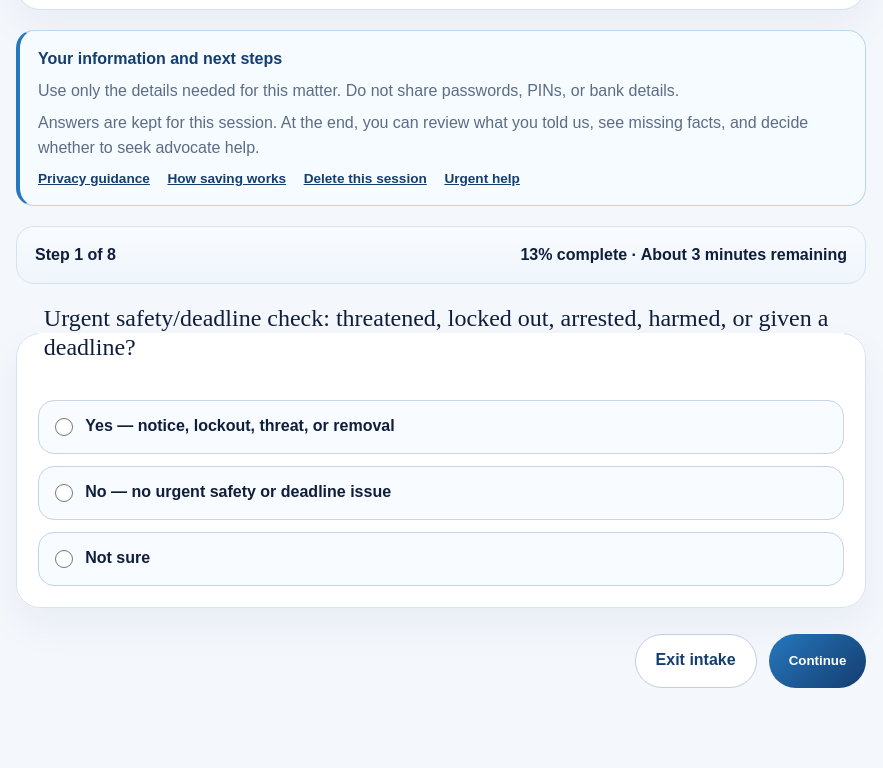
uses mutually exclusive land role labels and offers an exit before answering
The image size is (883, 768).
(page scrolled)
Click the radio button labelled "No — no urgent safety or deadline issue".
click(64, 493)  # box [55,484,73,502]
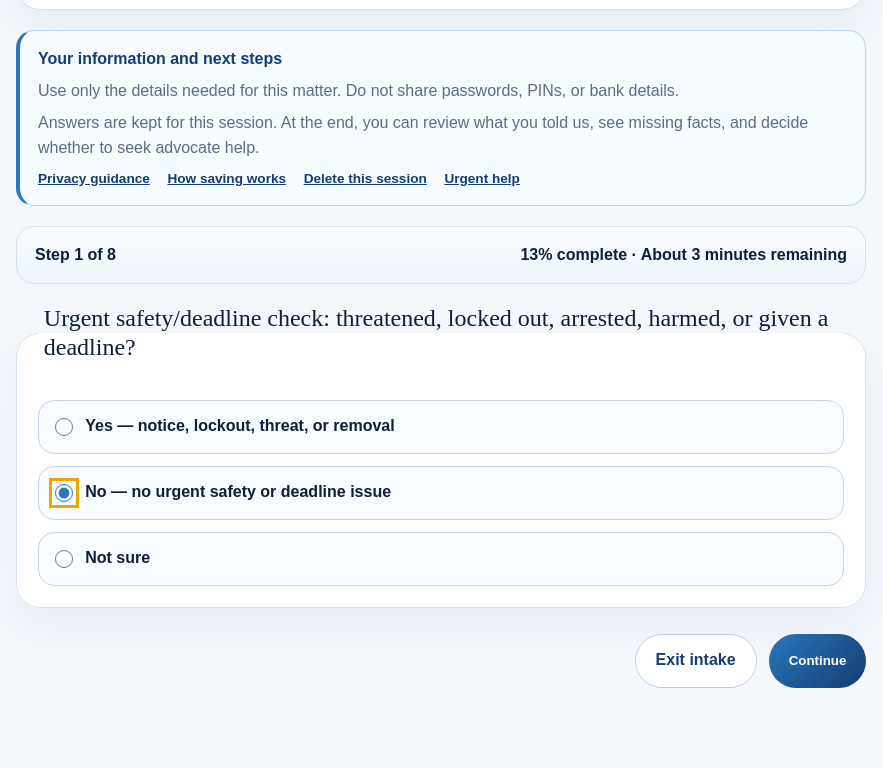
Click the button "Continue".
click(818, 661)  # box [769,634,866,688]
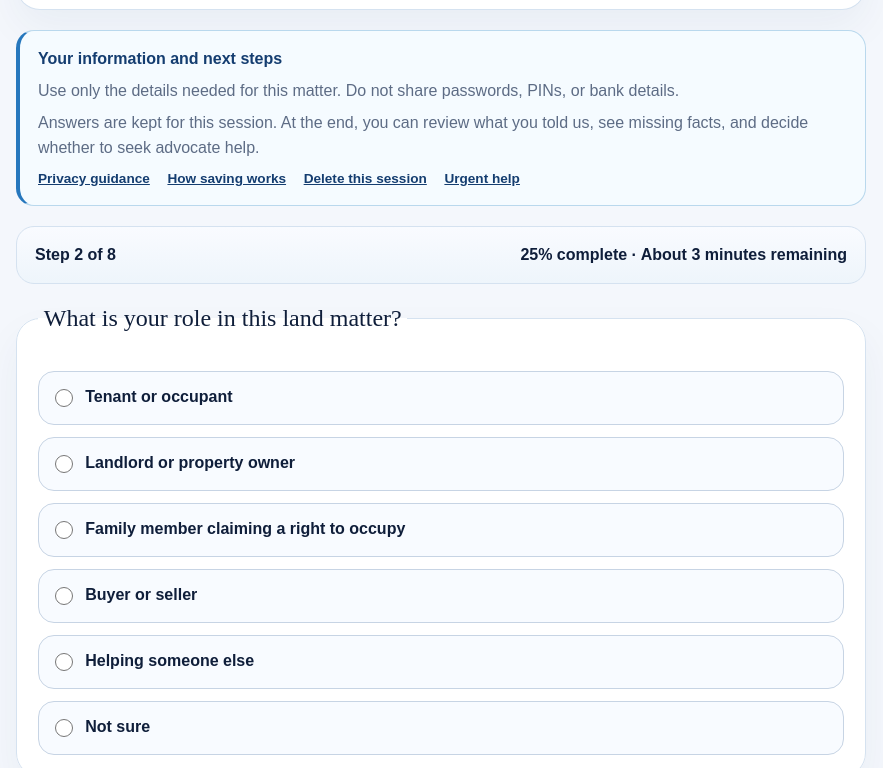
Now the radio button labelled "Tenant or occupant" is shown, box [55,389,73,407]
